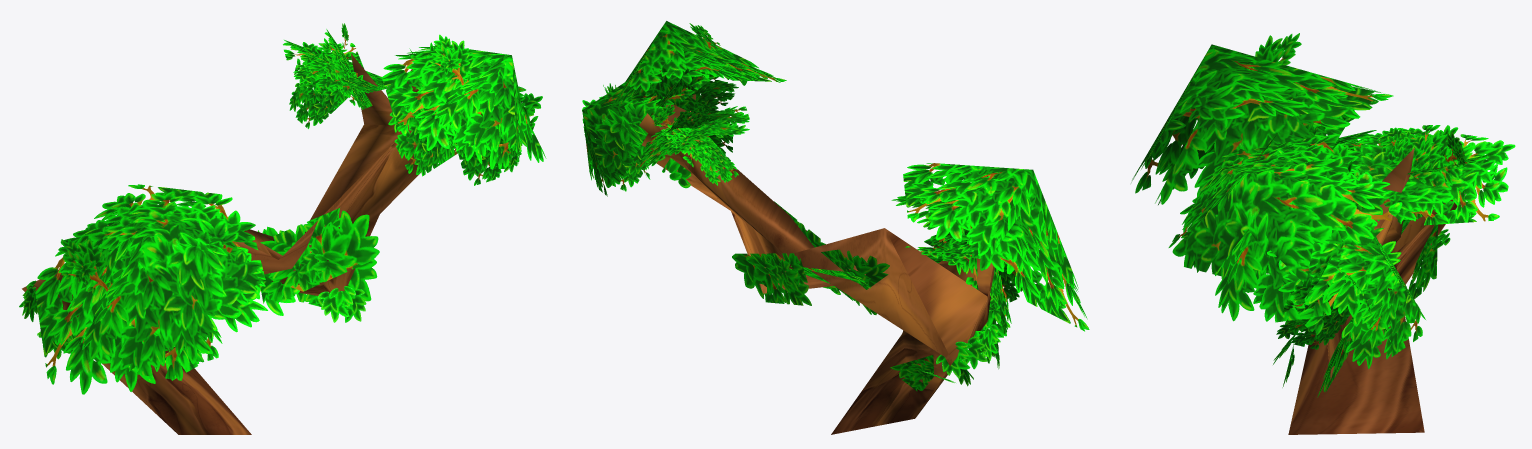
File: 3_Verde_Claro_LOD_2.fbx
3 renders of one model, left to right at view 1: azimuth 30°, elevation 25°; view 2: azimuth 150°, elevation 25°; view 3: azimuth 270°, elevation 25°, orthographic. The views are drawn at different scales.
Visible parts, largest first — view 1: 3_Verde_Claro_LOD_2; view 2: 3_Verde_Claro_LOD_2; view 3: 3_Verde_Claro_LOD_2.
Part boxes in pixels (x1,y1,x2,y2): 3_Verde_Claro_LOD_2: [19, 23, 546, 434]; 3_Verde_Claro_LOD_2: [582, 21, 1089, 434]; 3_Verde_Claro_LOD_2: [1131, 33, 1515, 434].
Bounding box in the file's own units: 741 × 497 × 407.
